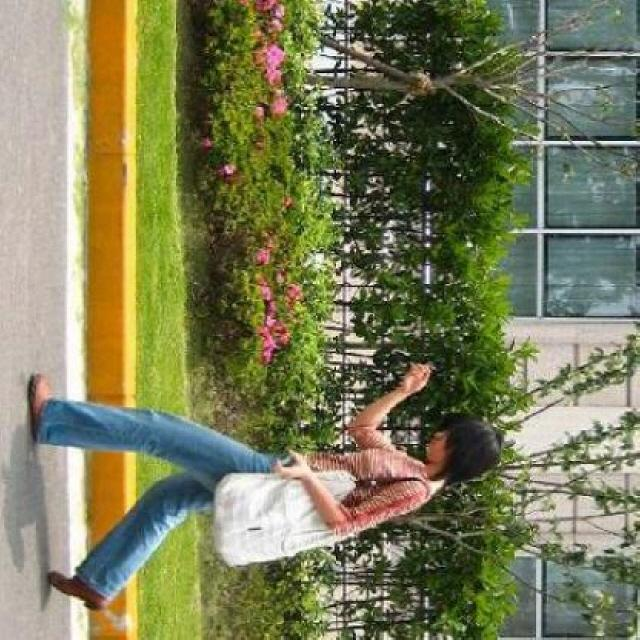Stand: (28, 365, 502, 611)
